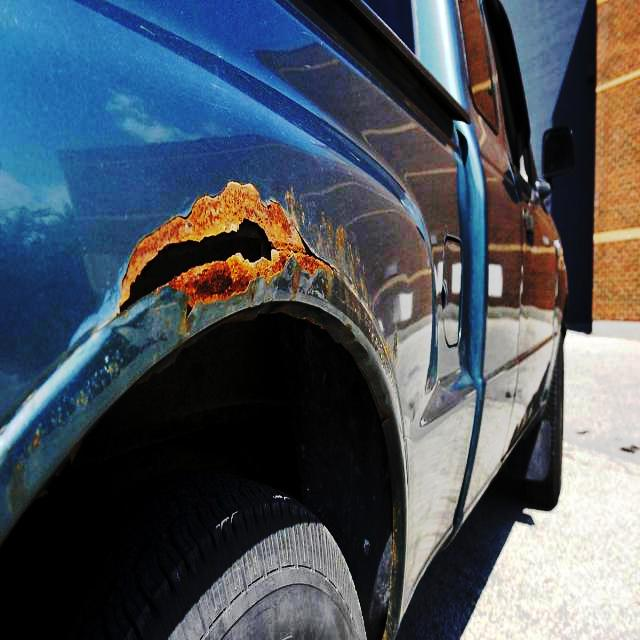Corrosion: (75, 175, 339, 351), (285, 190, 370, 308), (380, 331, 398, 372)
